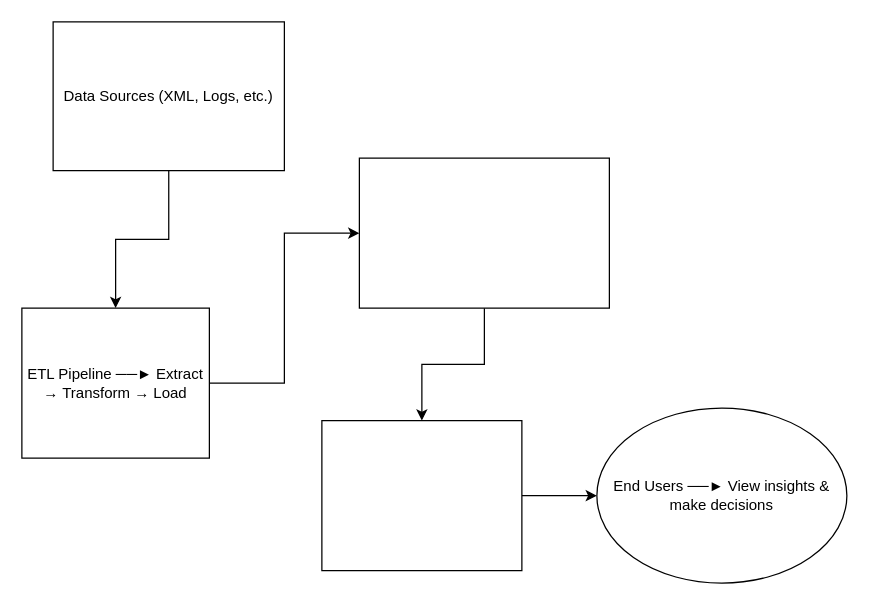
Some shapes in this 869 by 605 pixel diagram are drawn without their labels. The shapes that lost their labels are listed below. From the top down, each one's centre as x and y in pixels, then its label:
[483,232]: Storage Layer ──► Processed JSON | Logs | Dead Letters
[421,495]: Dashboard UI ──► HTML | CSS | JS (Charts & Tables)
